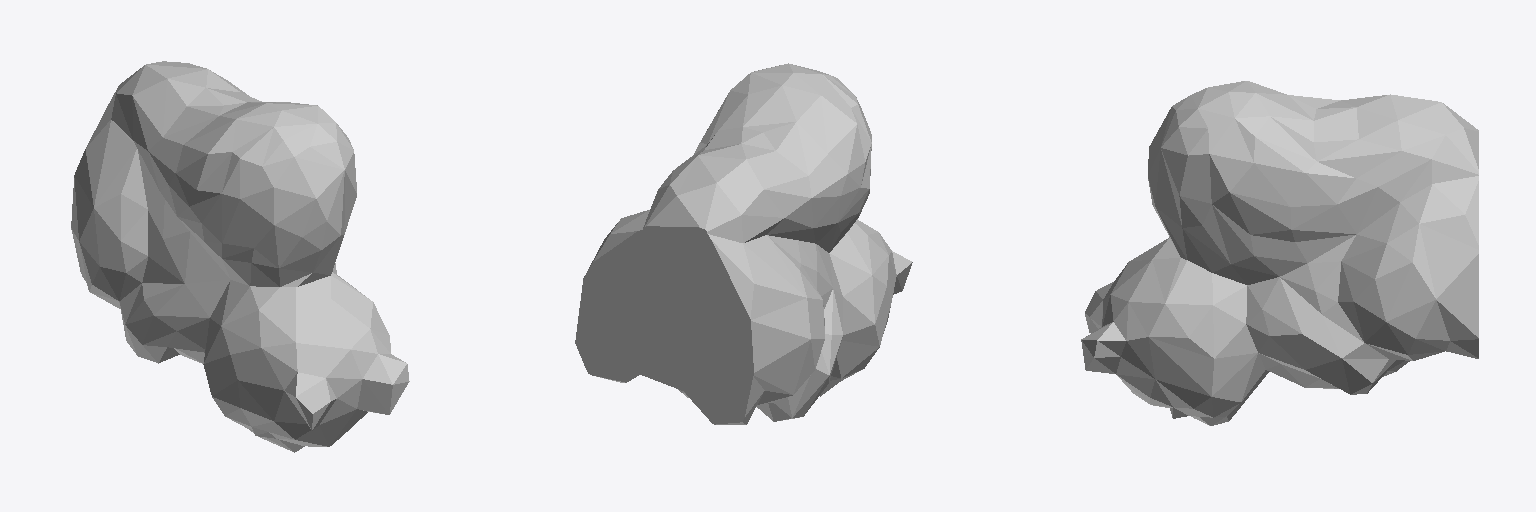
The model's file is squirrel.obj.
3 renders of one model, left to right at view 1: azimuth 30°, elevation 25°; view 2: azimuth 150°, elevation 25°; view 3: azimuth 270°, elevation 25°, orthographic.
Visible parts, largest first — view 1: Object.1; view 2: Object.1; view 3: Object.1.
Part boxes in pixels (x1,y1,x2,y2): Object.1: (71,61,409,452); Object.1: (575,63,912,424); Object.1: (1081,81,1478,425).
Bounding box in the file's own units: 347 × 495 × 544.